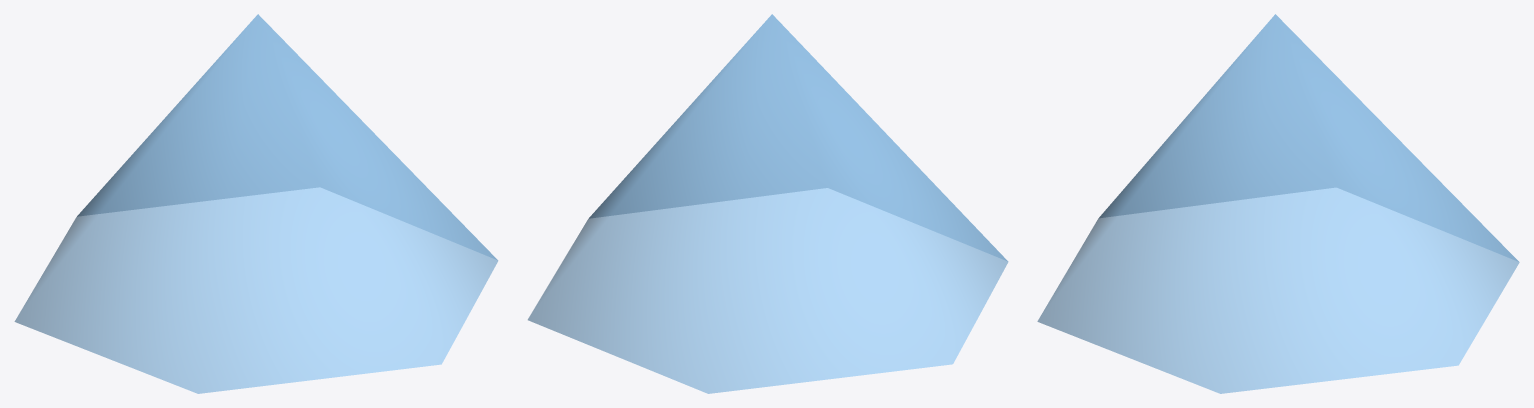
The picture shows the model from 3 angles, left to right: view 1: azimuth 30°, elevation 25°; view 2: azimuth 150°, elevation 25°; view 3: azimuth 270°, elevation 25°; orthographic projection.
Size of the model in its own units: 8 by 5 by 7.9.
